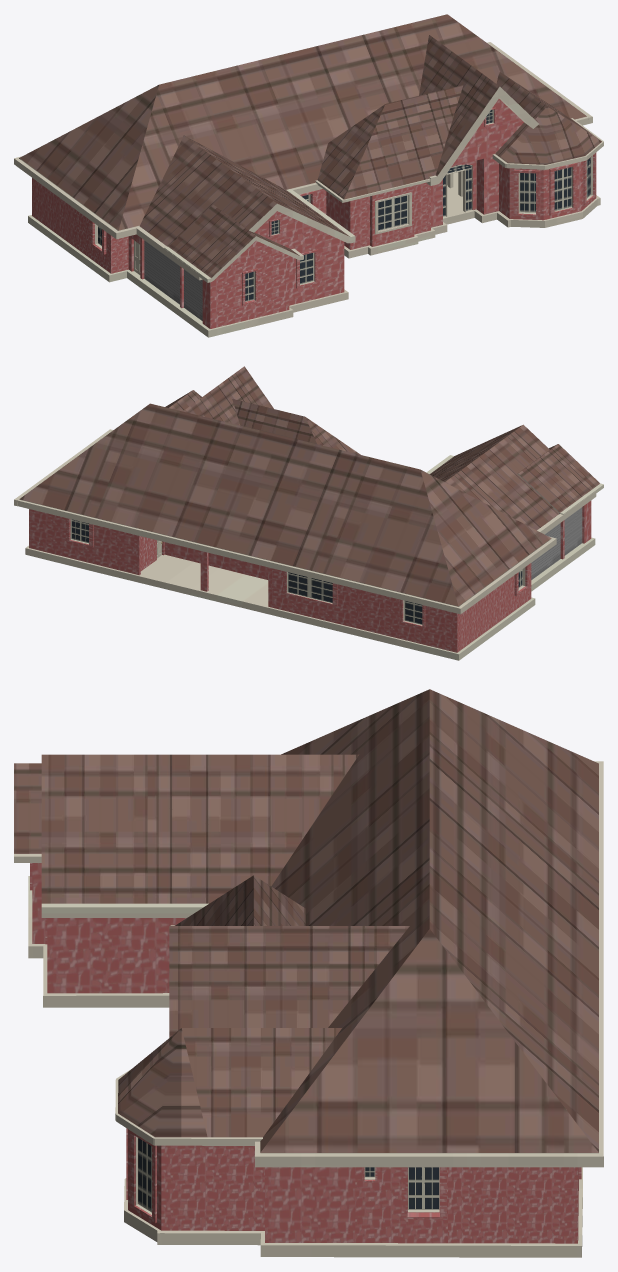
The model's file is FV_House1.glb.
3 views of the same model, one above another, from view 1: azimuth 30°, elevation 25°; view 2: azimuth 150°, elevation 25°; view 3: azimuth 270°, elevation 25° (orthographic). The views are drawn at different scales.
Visible parts, largest first — view 1: Cube.055; view 2: Cube.055; view 3: Cube.055.
Boxes of the visible parts, box(x1,y1,x2,y2) form: Cube.055: box(14, 14, 603, 337); Cube.055: box(14, 366, 603, 660); Cube.055: box(14, 689, 603, 1257).
Size of the model in its own units: 58.94 by 17.74 by 37.12.
Materials: 2 (2 with a texture image).
